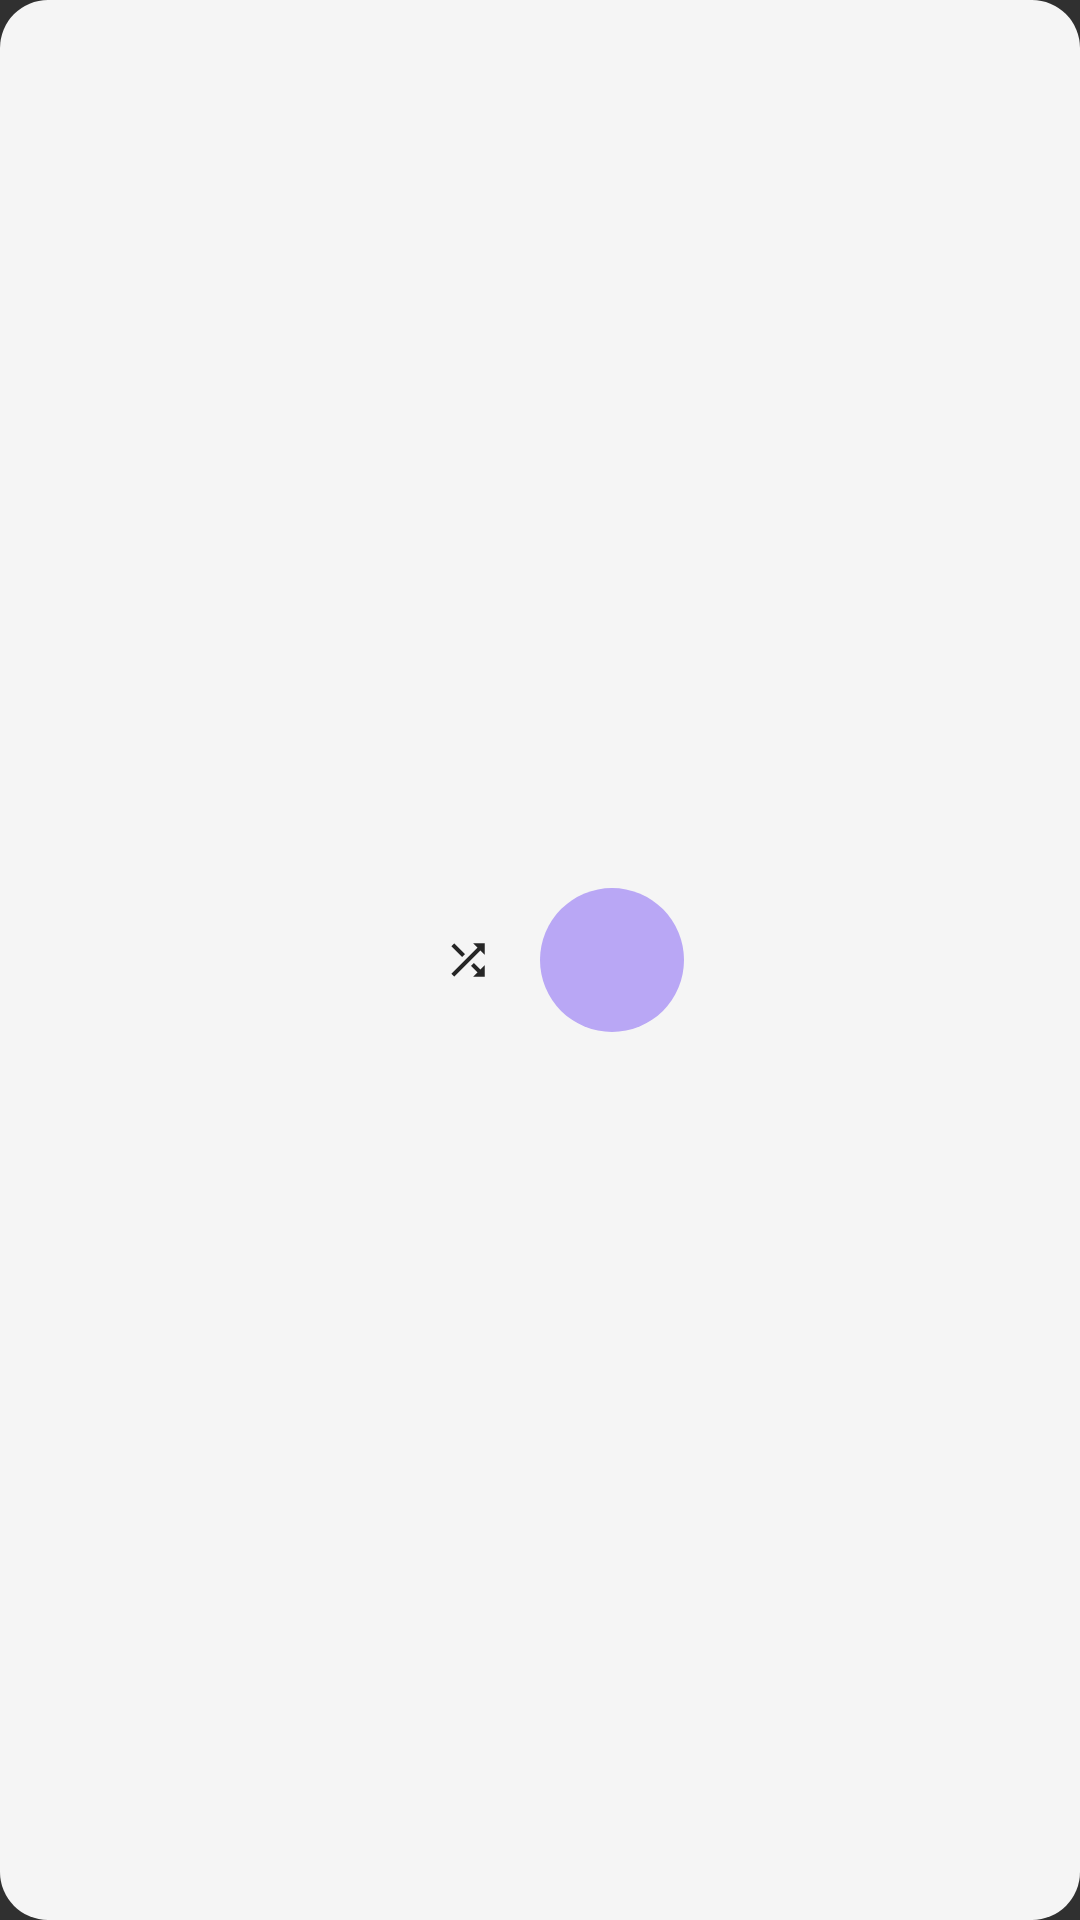

Screen size 1080×1920. Icon name, then its box in pixels as bbox(x1, y1, x2, y2):
shuffle: bbox(451, 943, 485, 977)
